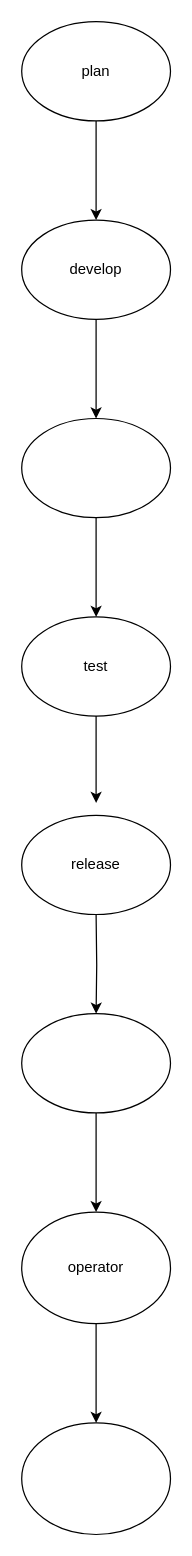
The diagram is 192 pixels wide and 1556 high, and some of its shapes have lost their labels. The centre of each missing label's shape, as x and y in pixels:
"build" goes at (95,467).
"deploy" goes at (95,1062).
